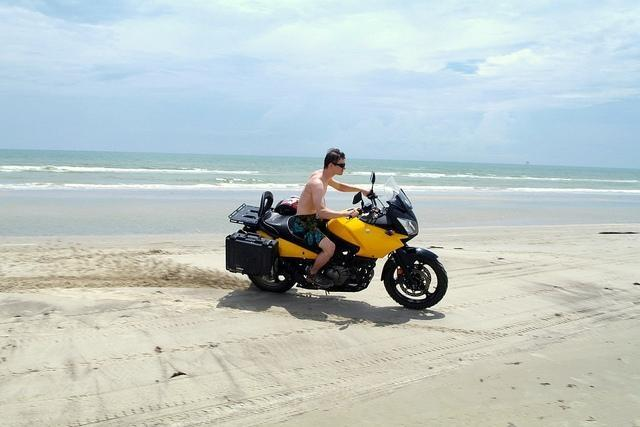motorcycle: (224, 170, 451, 308)
